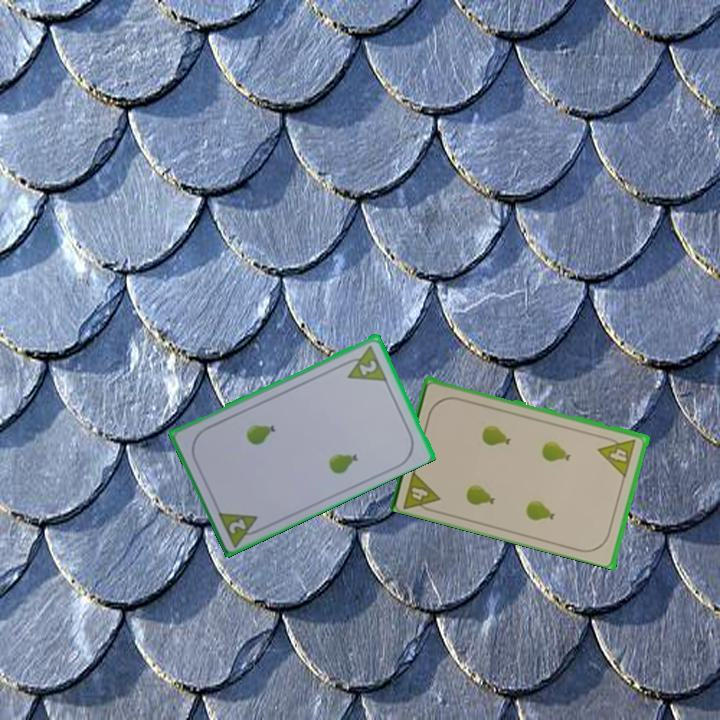2p: (214, 506, 267, 549), (356, 356, 380, 378)
4p: (400, 466, 444, 516), (595, 432, 639, 479)
